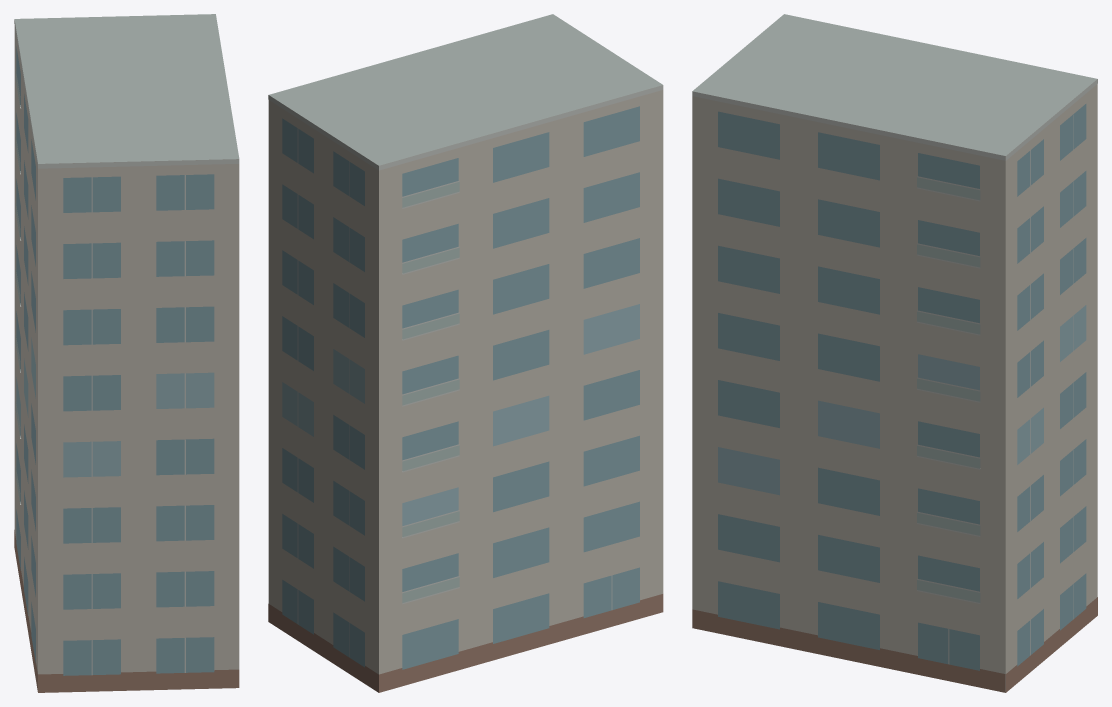
File: survey-upis-32531518.glb
The picture shows the model from 3 angles, left to right: view 1: azimuth 30°, elevation 25°; view 2: azimuth 150°, elevation 25°; view 3: azimuth 270°, elevation 25°; orthographic projection.
Parts seen in each view (by area): view 1: survey-upis-32531518.tmp; view 2: survey-upis-32531518.tmp; view 3: survey-upis-32531518.tmp.
Boxes of the visible parts, x1=… form: survey-upis-32531518.tmp: x1=14, y1=14, x2=239, y2=692; survey-upis-32531518.tmp: x1=268, y1=14, x2=663, y2=692; survey-upis-32531518.tmp: x1=692, y1=14, x2=1097, y2=692.
Size of the model in its own units: 15.43 by 27.15 by 18.6.
